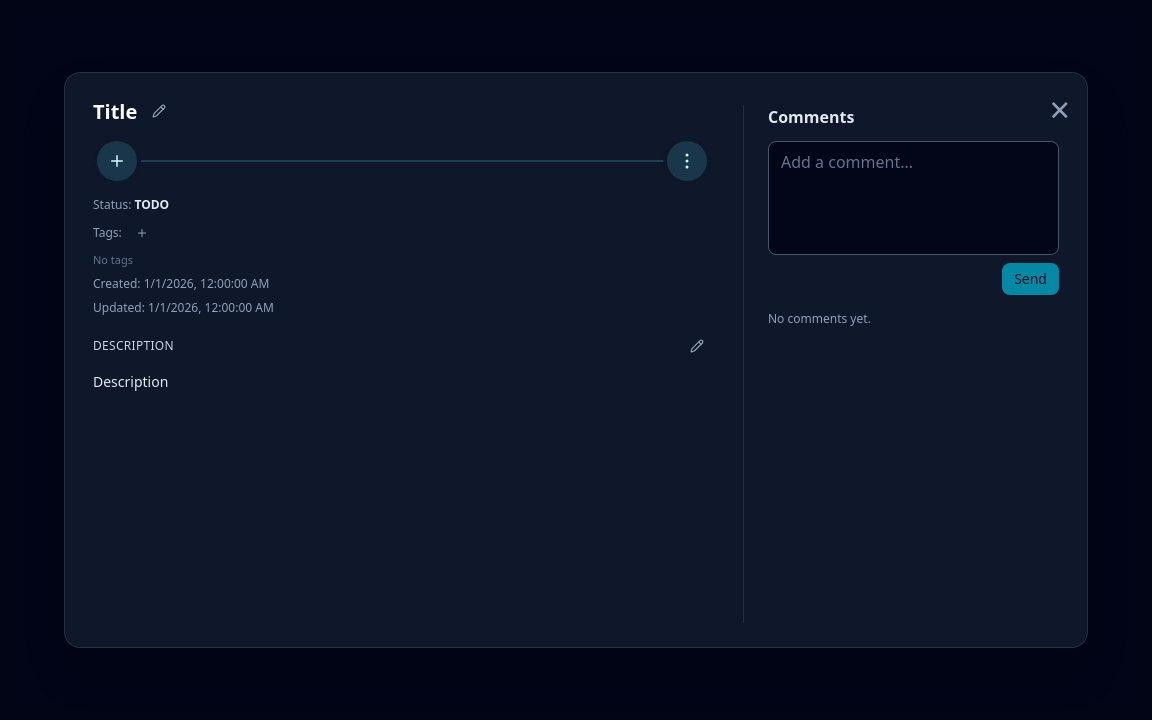
Test case: TodoModal › shows checklist action in plus actions menu
Step 1. Click the button with test id "todo-actions-trigger" → (117, 161), box [97,141,137,181]
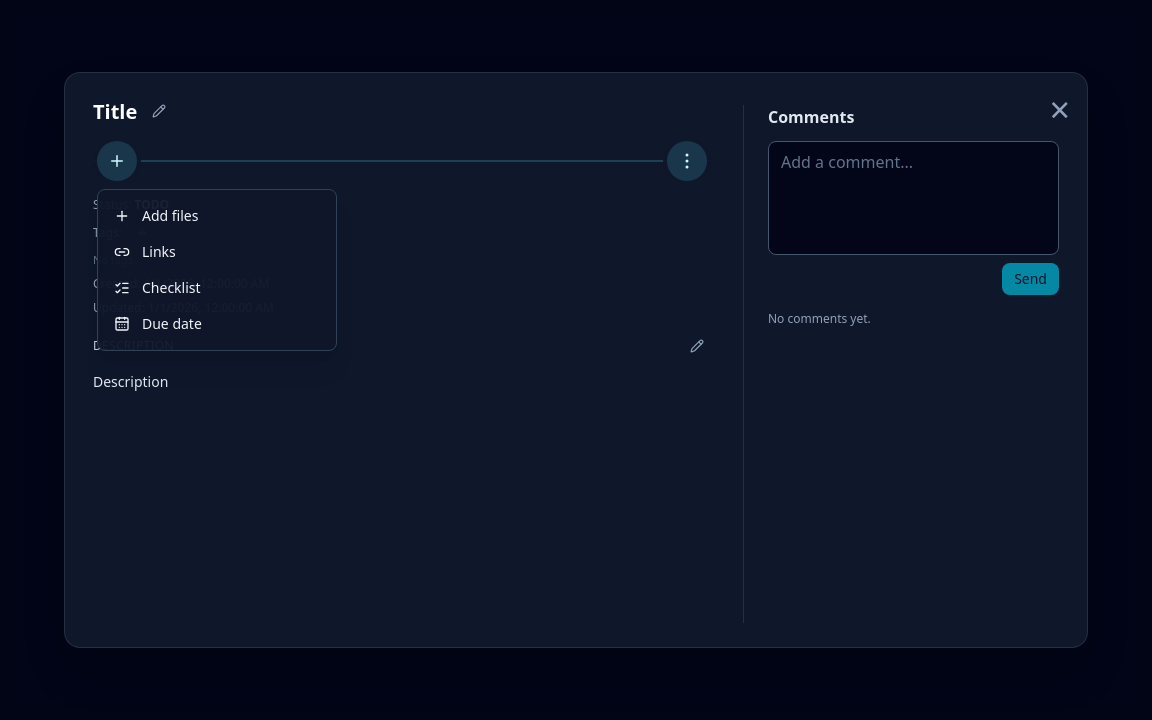
Now the menu item "Checklist" is shown, box [98,270,336,306]
